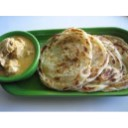parota: (41, 28, 92, 87), (91, 33, 128, 93)
